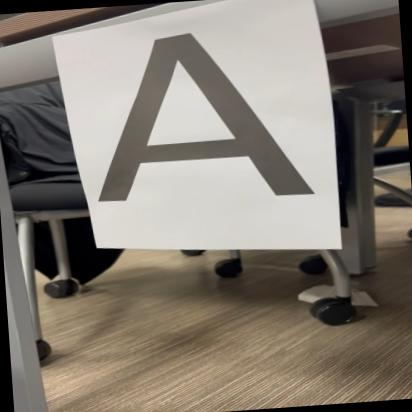seat: (69, 22, 320, 225)
